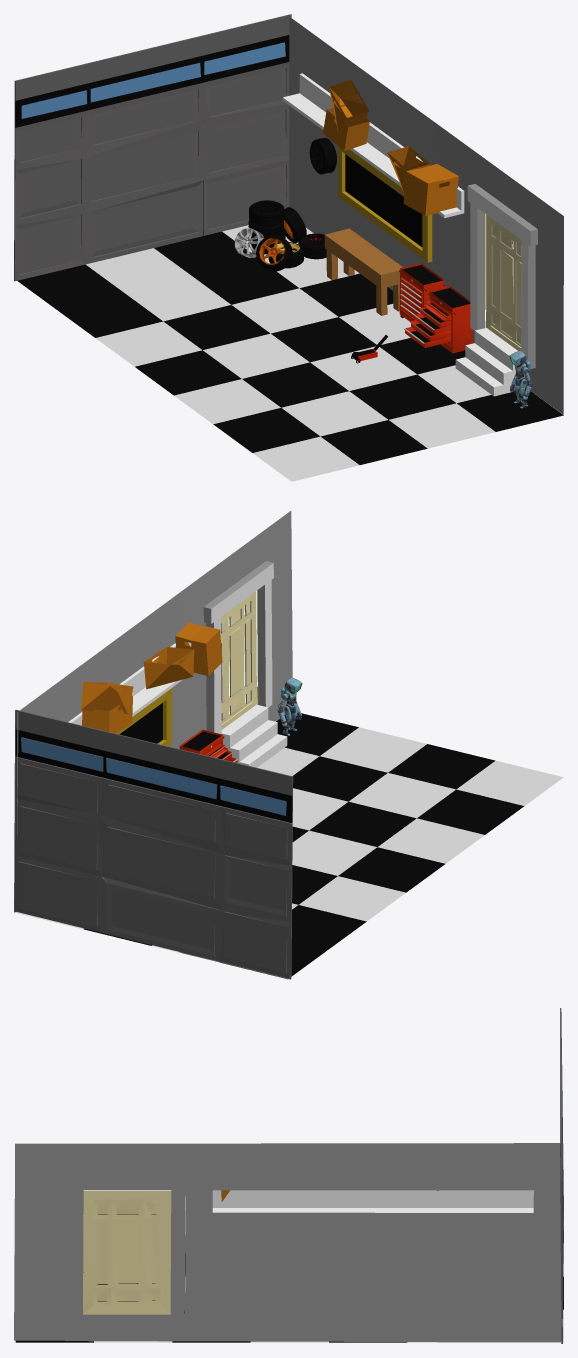
The model's file is garage.glb.
The picture shows the model from 3 angles, top to bottom: view 1: azimuth 30°, elevation 25°; view 2: azimuth 150°, elevation 25°; view 3: azimuth 270°, elevation 25°; orthographic projection.
Parts seen in each view (by area): view 1: Floor, Walls.001, Walls, Door, Board, TireStack, Bench, Walls.003, Drawer2, Cube, Drawer1, Cube.003 (+4 smaller); view 2: Walls.001, Floor, Walls, Door, Board, Cube, Cube.001, Cube.003, Walls.003, Cube.002, Drawer2, Mechanic; view 3: Walls, Door, Walls.003, Floor, Walls.001.
Boxes of the visible parts, left/top/right/bottom form: Floor: left=17, top=225, right=563, bottom=481; Walls.001: left=14, top=14, right=291, bottom=281; Walls: left=289, top=17, right=563, bottom=414; Door: left=455, top=184, right=537, bottom=396; Board: left=338, top=146, right=432, bottom=262; TireStack: left=234, top=200, right=326, bottom=271; Bench: left=324, top=228, right=402, bottom=315; Walls.003: left=282, top=73, right=464, bottom=217; Drawer2: left=404, top=286, right=472, bottom=354; Cube: left=403, top=164, right=458, bottom=215; Drawer1: left=399, top=263, right=445, bottom=321; Cube.003: left=329, top=80, right=369, bottom=134; Walls.001: left=14, top=709, right=293, bottom=979; Floor: left=15, top=711, right=563, bottom=979; Walls: left=17, top=511, right=292, bottom=834; Door: left=203, top=561, right=287, bottom=767; Board: left=116, top=688, right=172, bottom=746; Cube: left=175, top=622, right=222, bottom=675; Cube.001: left=143, top=647, right=194, bottom=689; Cube.003: left=81, top=682, right=133, bottom=713; Walls.003: left=68, top=642, right=191, bottom=725; Cube.002: left=82, top=695, right=132, bottom=733; Drawer2: left=179, top=729, right=238, bottom=762; Mechanic: left=277, top=677, right=302, bottom=735; Walls: left=14, top=1143, right=562, bottom=1342; Door: left=70, top=1175, right=185, bottom=1341; Walls.003: left=212, top=1190, right=533, bottom=1212; Floor: left=15, top=1210, right=563, bottom=1342; Walls.001: left=560, top=1008, right=563, bottom=1343.
Size of the model in its own units: 1.02 by 0.7109 by 1.76.
Materials: 40 (16 with a texture image).
